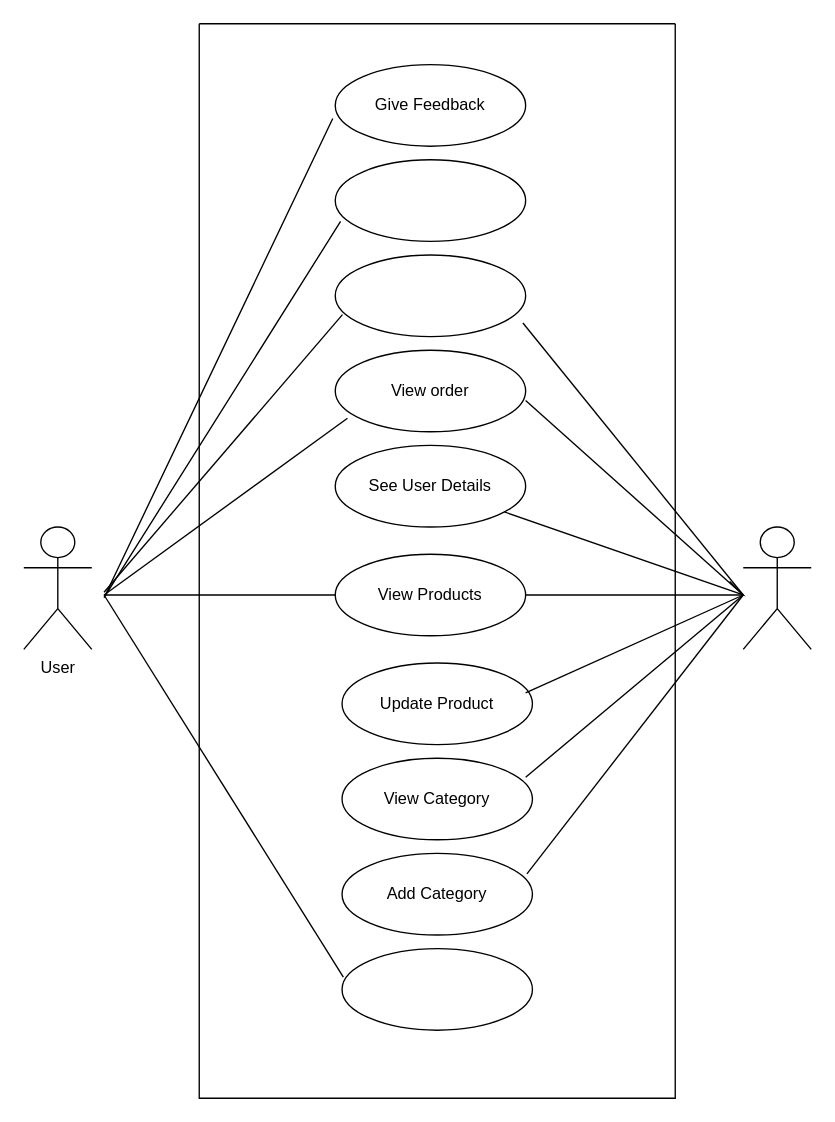
Some shapes in this 835 by 1122 pixel diagram are drawn without their labels. The shapes that lost their labels are listed below. From the top down, each one's centre as x and y in pixels, then its label:
At (430,199): "Order Galaichas".
At (430,295): "Login/signup".
At (776,587): "Admin".
At (436,988): "Search Product".
